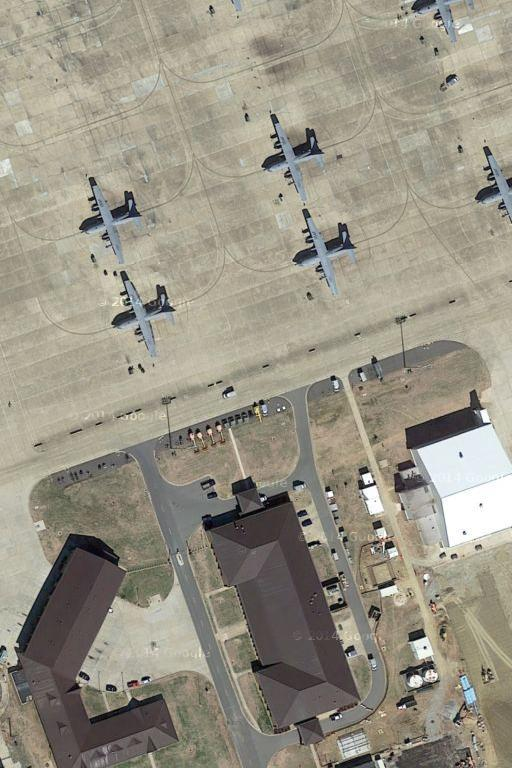C-130: (266, 111, 328, 203), (81, 177, 143, 268), (111, 277, 175, 359), (298, 209, 358, 296)
